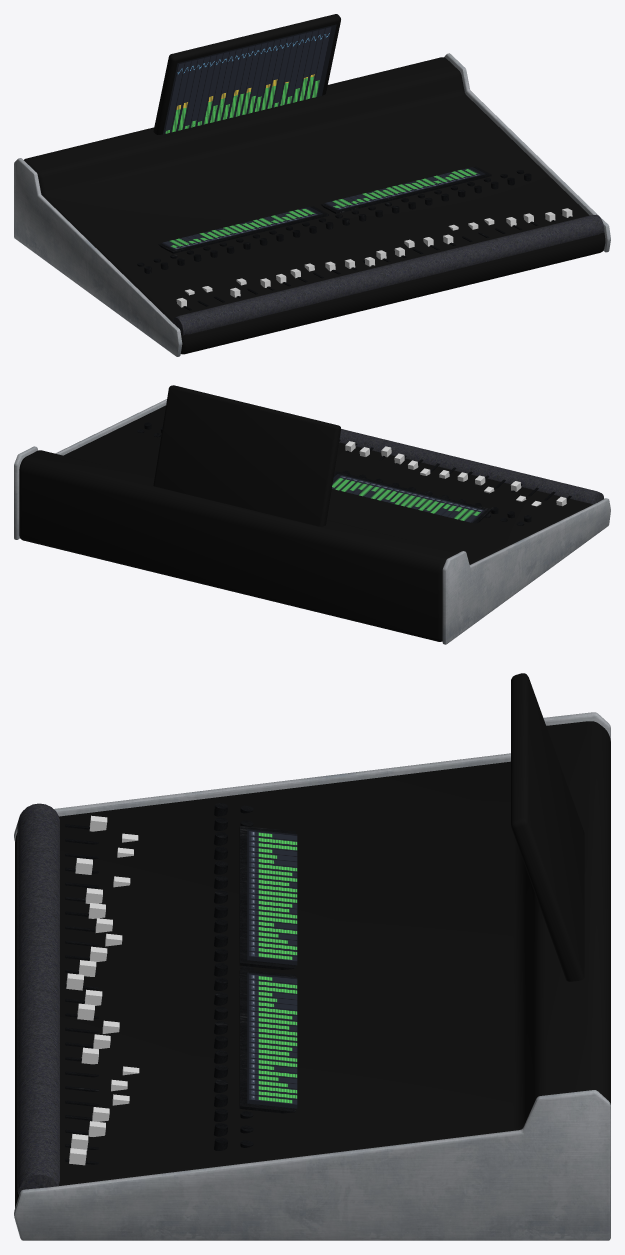
The model's file is audio_console_dlife.gltf.
The picture shows the model from 3 angles, top to bottom: view 1: azimuth 30°, elevation 25°; view 2: azimuth 150°, elevation 25°; view 3: azimuth 270°, elevation 25°; orthographic projection. The views are drawn at different scales.
Visible parts, largest first — view 1: audio_console_dlife; view 2: audio_console_dlife; view 3: audio_console_dlife.
Part boxes in pixels (x1,y1,x2,y2): audio_console_dlife: (14,14,610,356); audio_console_dlife: (14,385,610,644); audio_console_dlife: (14,673,610,1240).
Bounding box in the file's own units: 1.22 × 0.4564 × 0.8094.
Materials: 7 (5 with a texture image).
